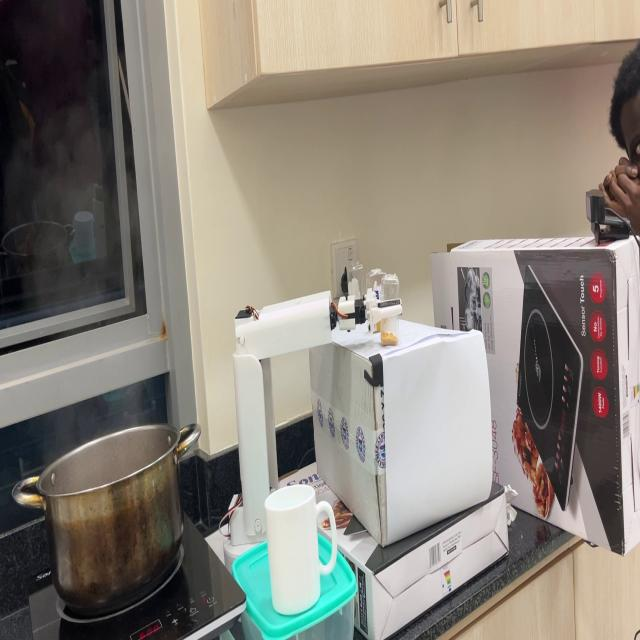cooking_pot: (10, 420, 202, 612)
garlic_powder: (380, 328, 403, 347)
